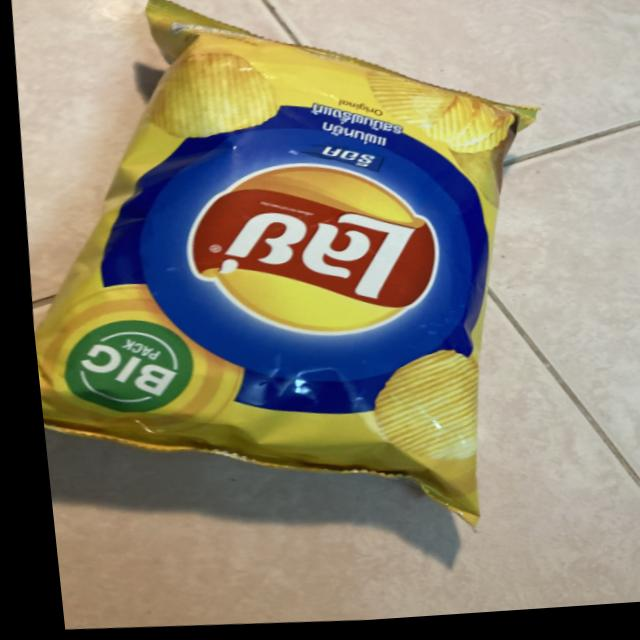LayYellow: (12, 0, 527, 537)
